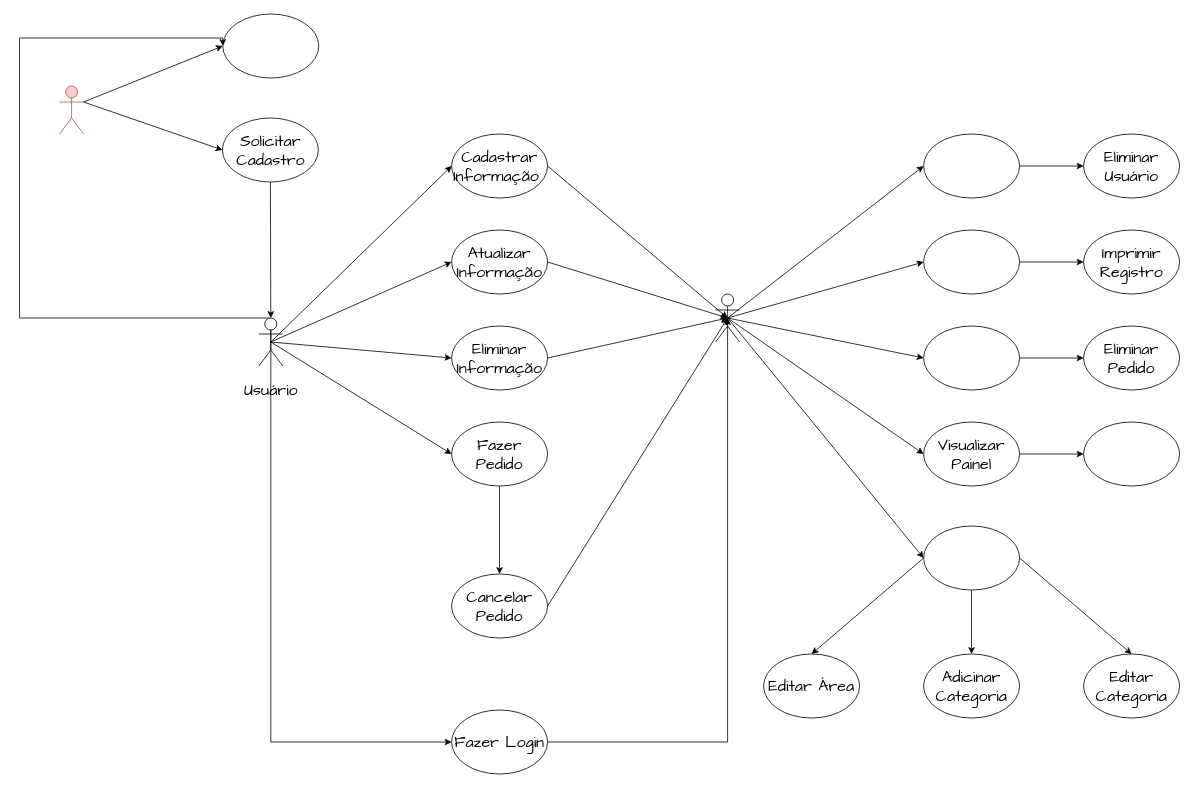
Image size: 1194x788. Some labels were removed from this diagram. The shapes that lost their labels are listed below. From the top down, each one's box as (x1, y1, x2, y2) in pixels, then its label:
(222, 13, 319, 78): Visualizar Informações
(59, 85, 84, 134): Visitante
(923, 133, 1020, 198): Visualizar Usuários
(923, 229, 1020, 294): Ver Registros
(715, 293, 740, 342): Administrador
(923, 325, 1020, 390): Visualizar Pedidos
(1083, 421, 1180, 486): Excluir Informações
(923, 525, 1020, 590): Adicionar Área
